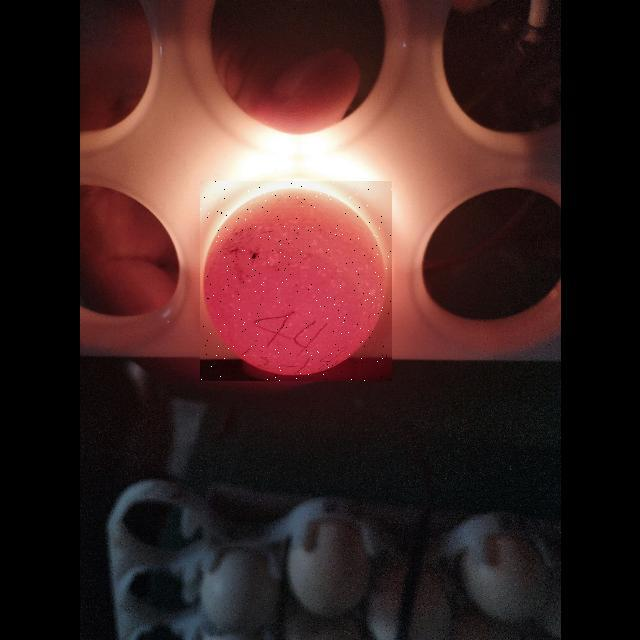Infertile: (200, 181, 392, 381)
